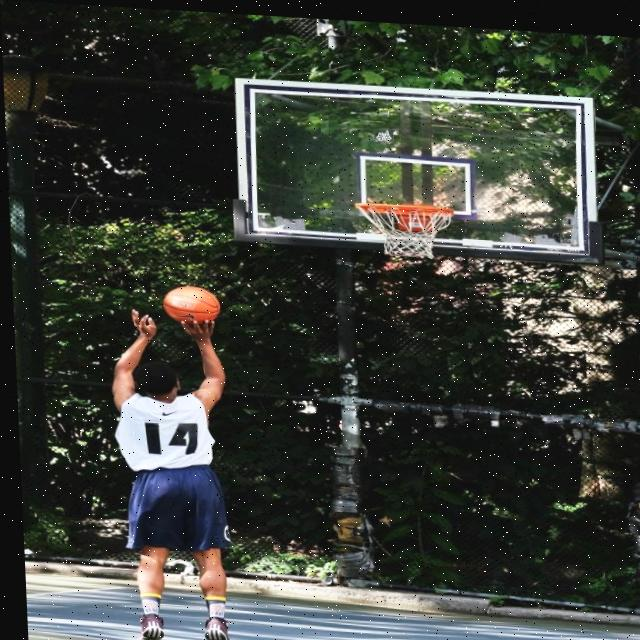basketball: (163, 285, 221, 326)
hoop: (355, 202, 457, 260)
